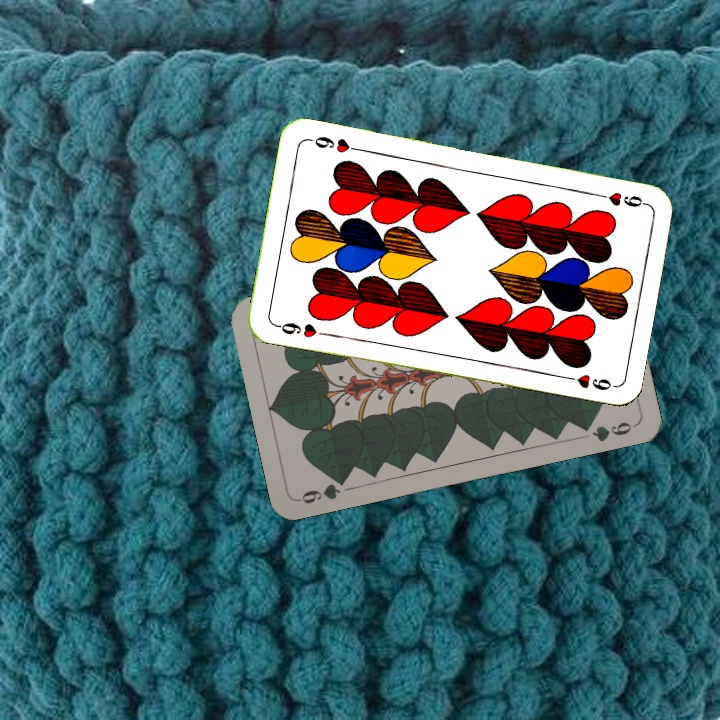G9: (295, 472, 351, 506)
H9: (271, 318, 330, 340), (589, 188, 648, 210)
